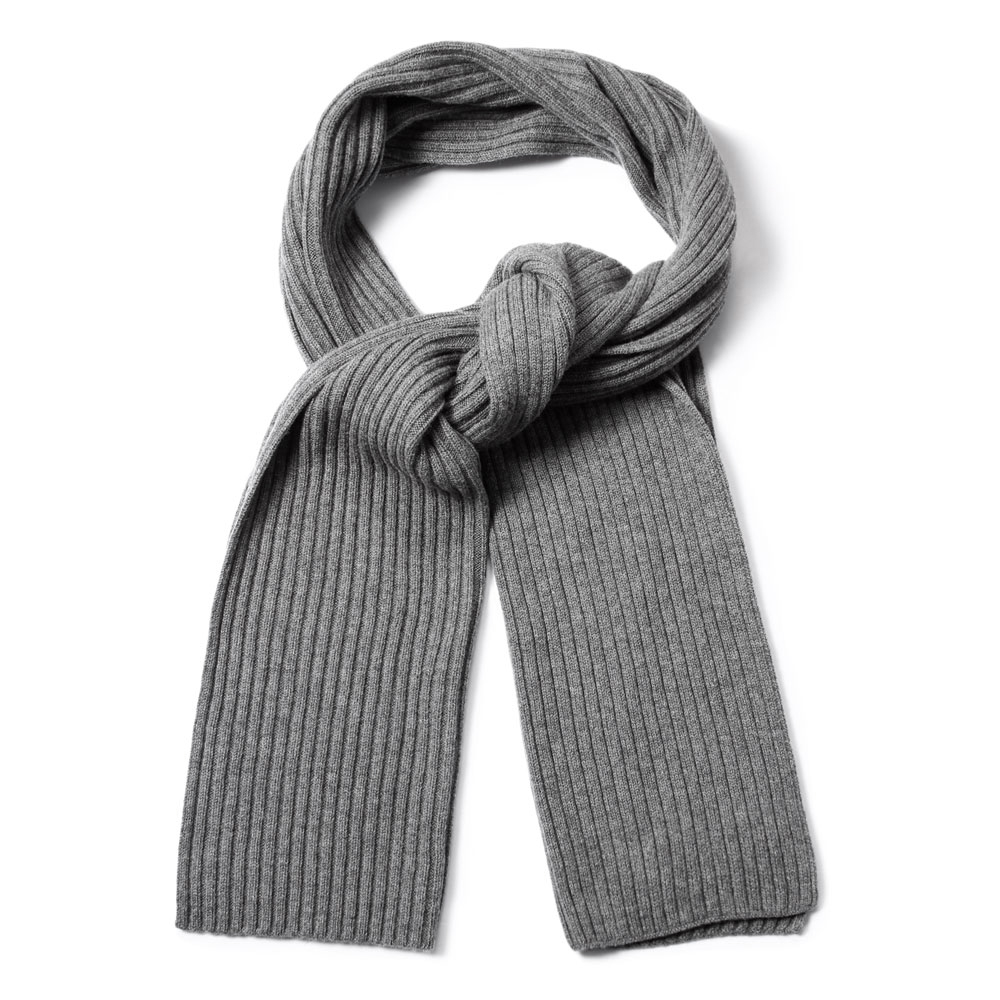flexible: (175, 27, 817, 959)
